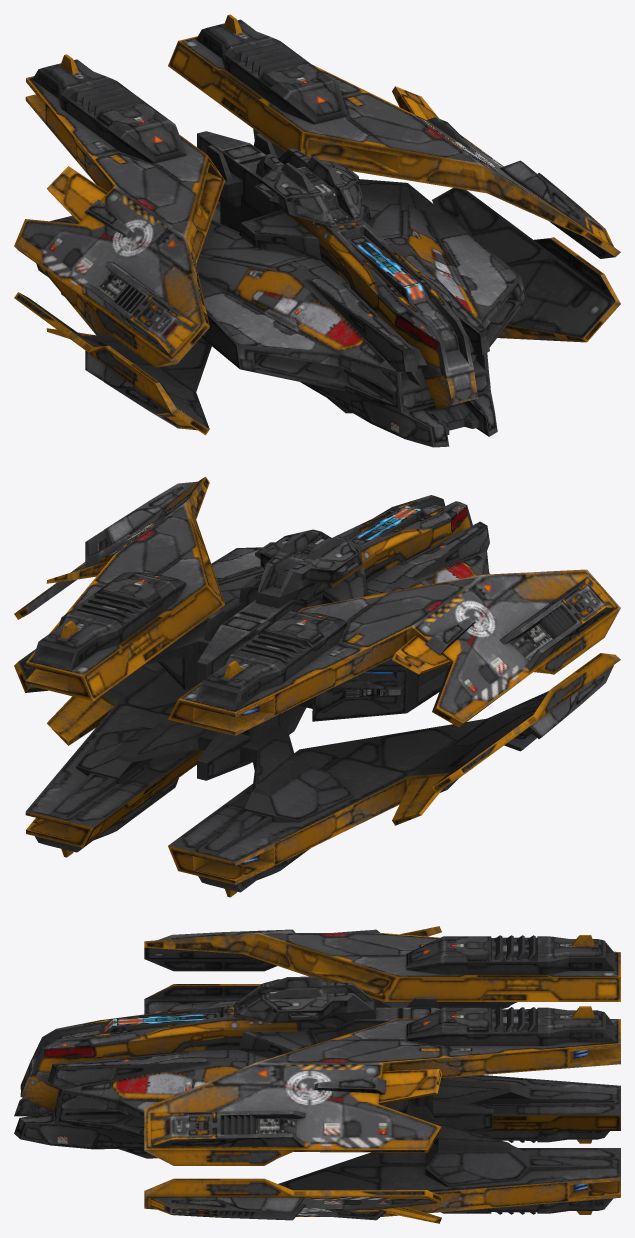
Rendered from Player.obj.
3 renders of one model, top to bottom at view 1: azimuth 30°, elevation 25°; view 2: azimuth 150°, elevation 25°; view 3: azimuth 270°, elevation 25°, orthographic. The views are drawn at different scales.
Visible parts, largest first — view 1: SciFi_Fighter; view 2: SciFi_Fighter; view 3: SciFi_Fighter.
Part boxes in pixels (bbox=[...]): SciFi_Fighter: bbox=[14, 14, 620, 447]; SciFi_Fighter: bbox=[14, 476, 620, 897]; SciFi_Fighter: bbox=[14, 926, 620, 1223].
Bounding box in the file's own units: 15.44 × 7.48 × 19.82.
1 material, 1 textured.
